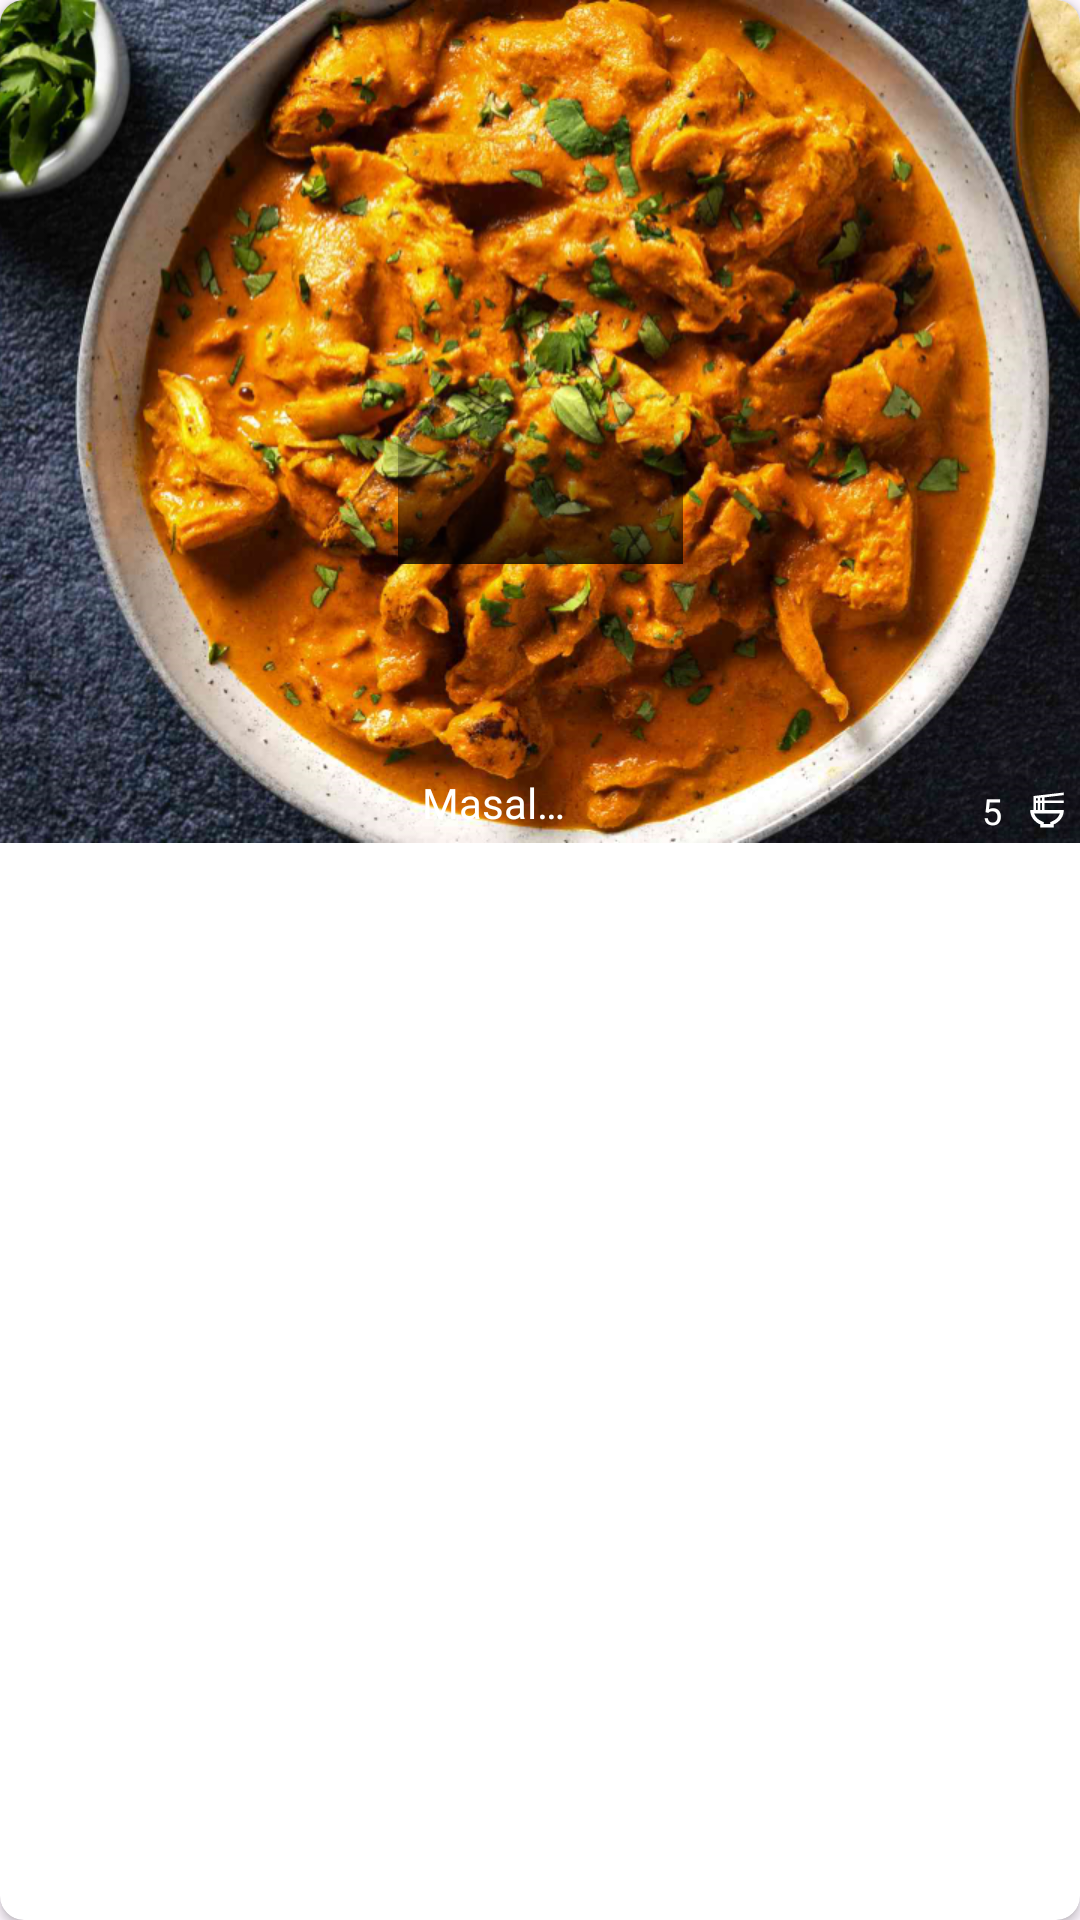

Named icons in this screenshot (1080 × 1920) and their bounding boxes, (x1, y1, x2, y2):
dishes: (1030, 792, 1064, 828)
